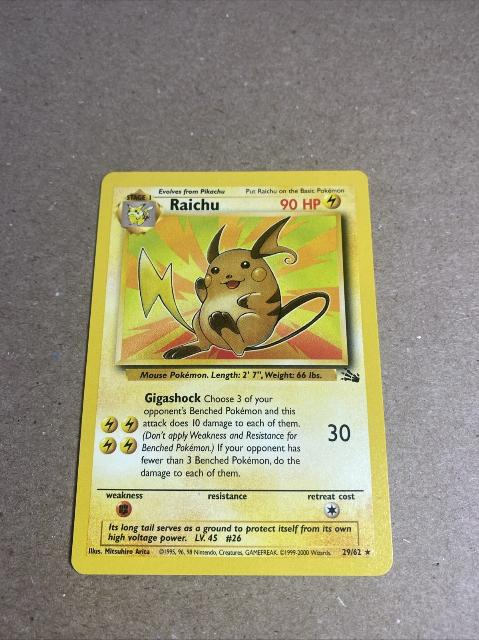Card: (62, 165, 402, 581)
Name: (164, 195, 225, 214)
